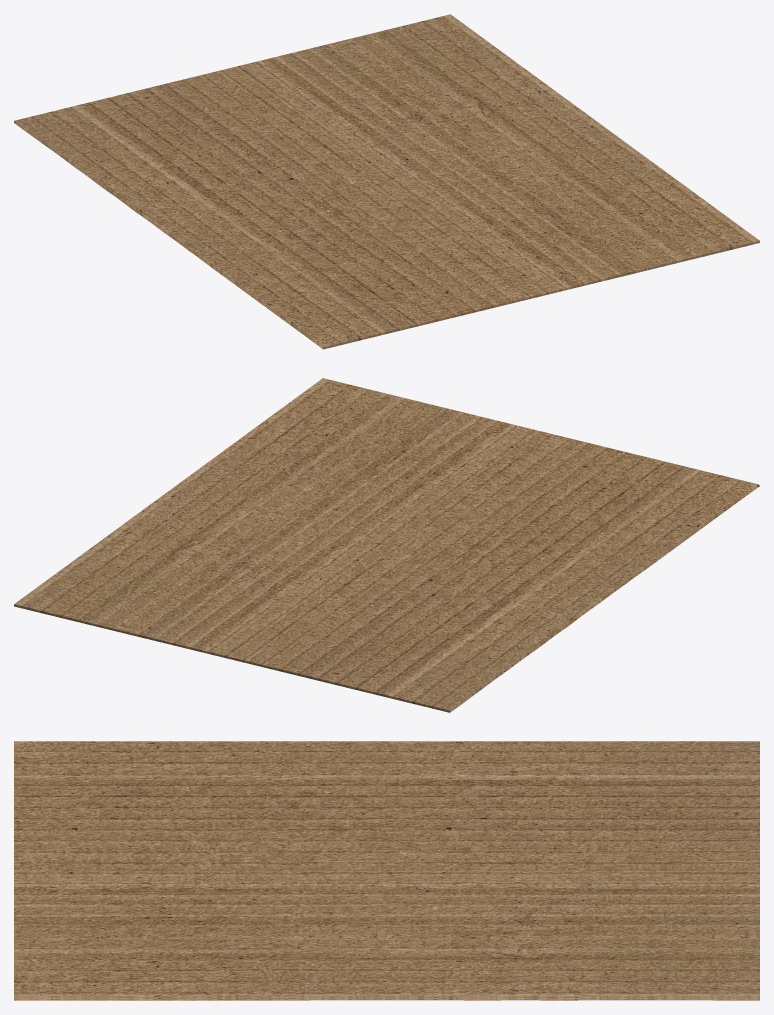
The model's file is victory-base-small.glb.
3 views of the same model, one above another, from view 1: azimuth 30°, elevation 25°; view 2: azimuth 150°, elevation 25°; view 3: azimuth 270°, elevation 25° (orthographic). The views are drawn at different scales.
Visible parts, largest first — view 1: Plane.001; view 2: Plane.001; view 3: Plane.001.
Boxes of the visible parts, x1,y1,x2,y2 form: Plane.001: (14,14,759,349); Plane.001: (14,378,759,712); Plane.001: (14,741,759,1000).
Bounding box in the file's own units: 1.47 × 0.00706 × 1.8.
Materials: 1 (1 with a texture image).
